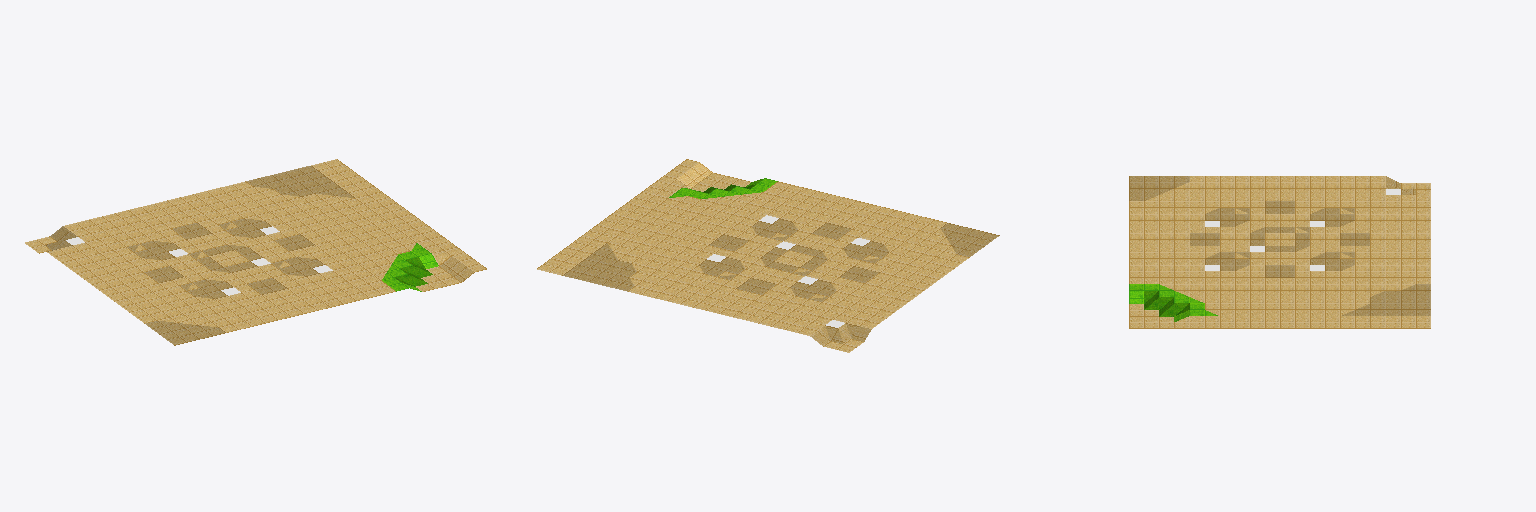
3 views of the same model, side by side, from view 1: azimuth 30°, elevation 25°; view 2: azimuth 150°, elevation 25°; view 3: azimuth 270°, elevation 25° (orthographic).
Parts seen in each view (by area): view 1: FloorSide_2; view 2: FloorSide_2; view 3: FloorSide_2.
Boxes of the visible parts, <box> form: FloorSide_2: <box>25,159,486,345</box>; FloorSide_2: <box>537,159,999,352</box>; FloorSide_2: <box>1129,176,1430,328</box>.
Bounding box in the file's own units: 24 × 0.5291 × 20.
Materials: 10 (9 with a texture image).